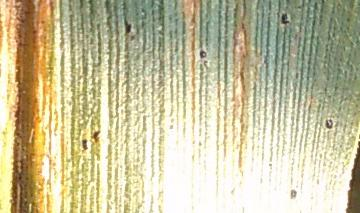tarspot: (121, 13, 133, 36), (278, 11, 291, 28), (322, 116, 334, 131), (80, 136, 90, 153), (91, 129, 101, 145), (288, 189, 298, 200), (197, 48, 206, 60), (139, 8, 148, 20), (202, 59, 210, 71), (167, 123, 175, 131), (168, 116, 175, 124), (128, 35, 136, 42), (197, 139, 203, 148), (266, 162, 272, 167), (191, 138, 196, 144)
